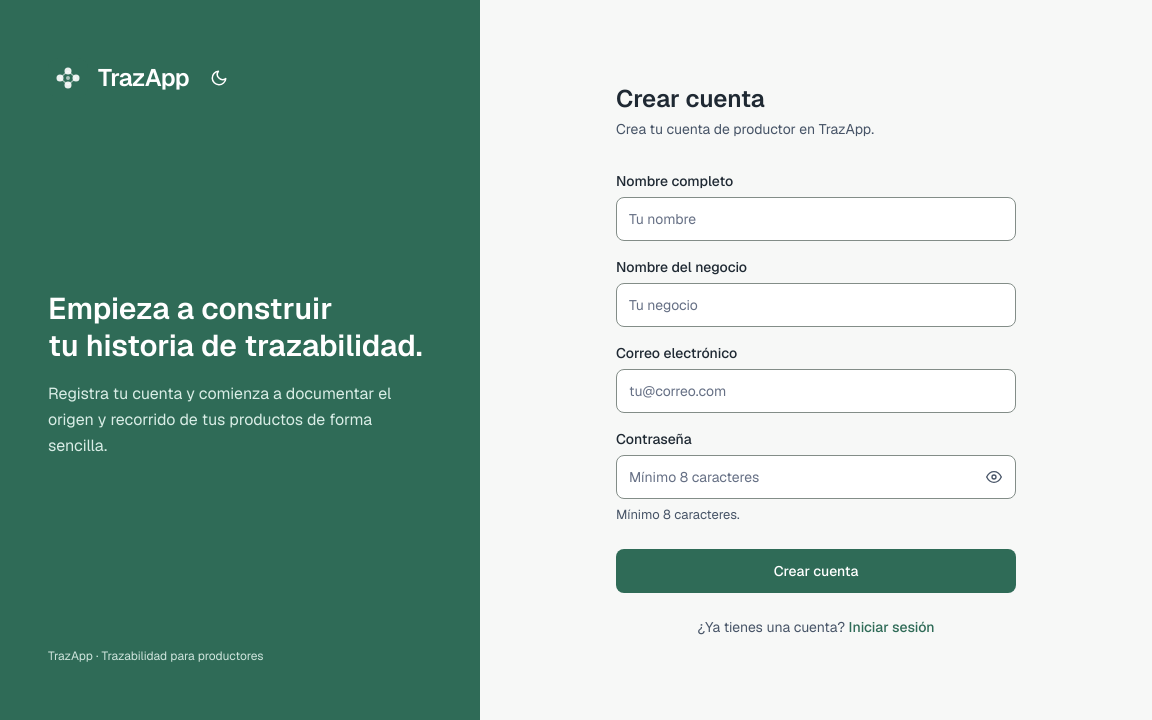
Test case: Registro HU12 › valida campos obligatorios
Expected: the heading "Crear cuenta" is shown, 616,83 -> 765,114
Click the button "Crear cuenta" at [816, 571], box 616,549 -> 1016,593
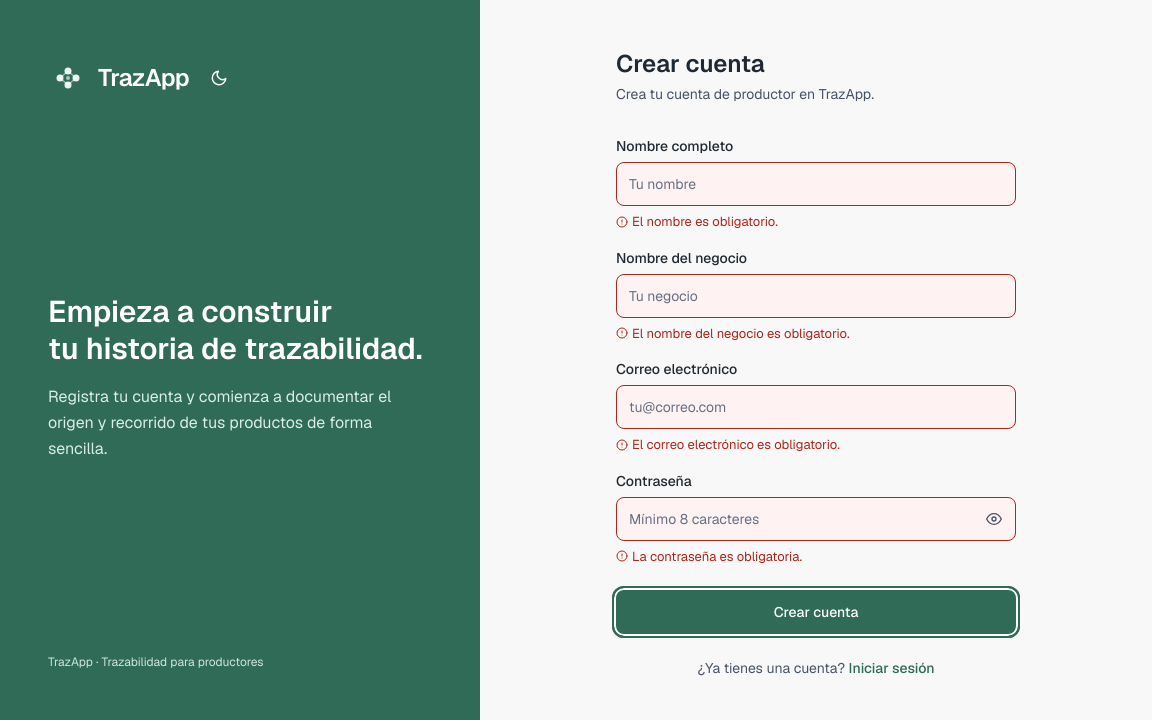
Result: the text "El nombre es obligatorio." is shown at 616,213 -> 778,230
Result: the text "El nombre del negocio es obligatorio." is shown at 616,324 -> 850,342
Result: the text "El correo electrónico es obligatorio." is shown at 616,436 -> 840,453
